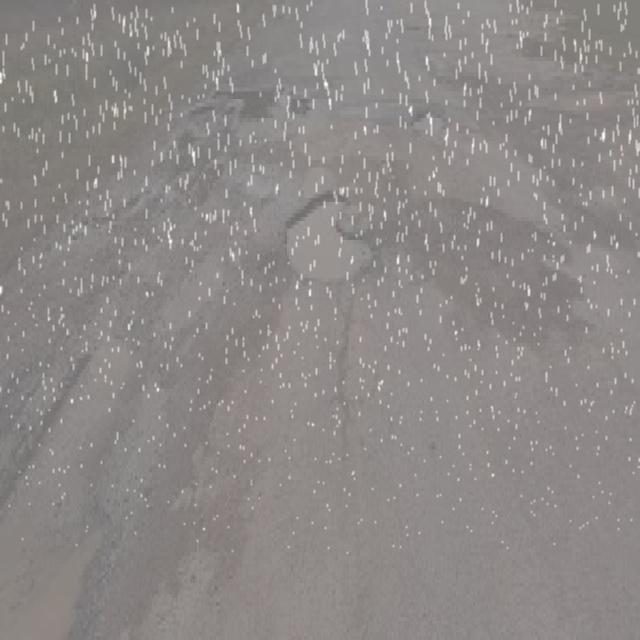Pothole: (0, 296, 149, 635), (446, 116, 593, 242), (266, 183, 392, 294), (186, 51, 337, 130), (387, 104, 443, 149)
